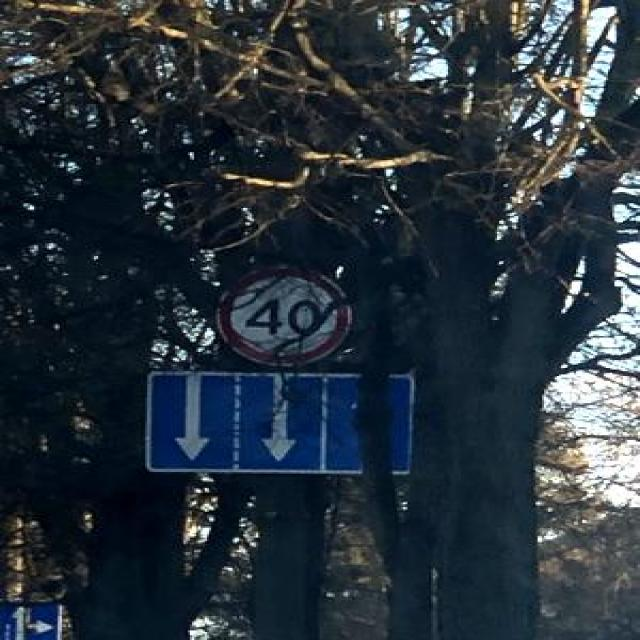speed limit 40: (216, 268, 353, 368)
